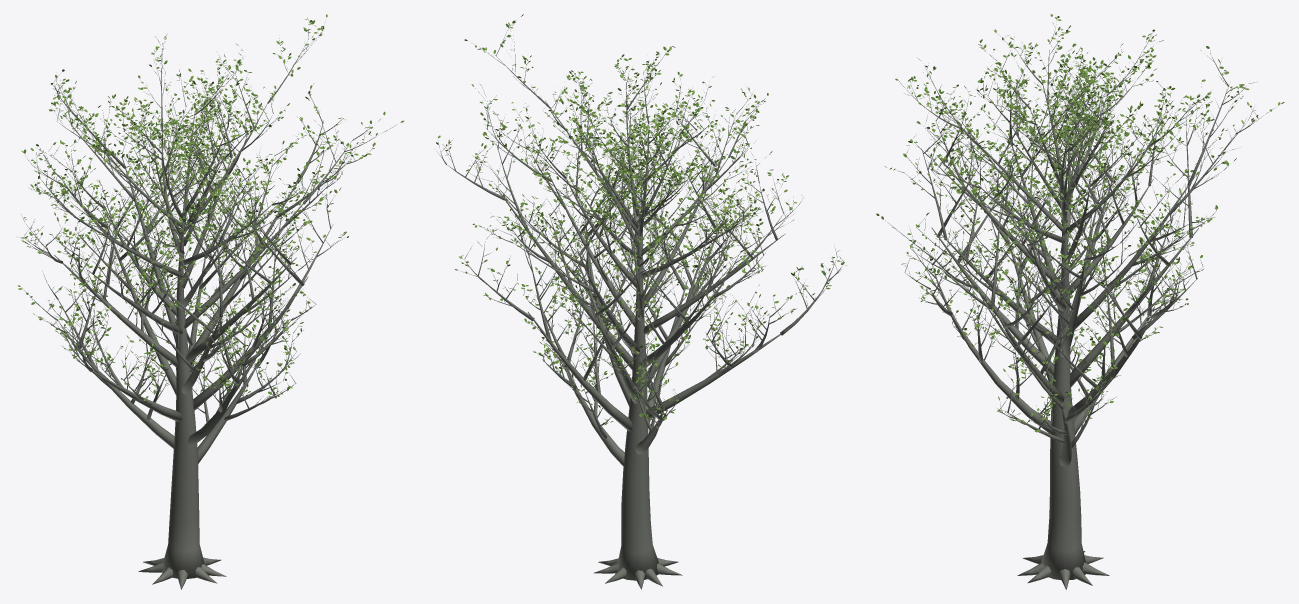
The model's file is Beech_Mature_01_Unpruned_LOD2.fbx.
3 views of the same model, side by side, from view 1: azimuth 30°, elevation 25°; view 2: azimuth 150°, elevation 25°; view 3: azimuth 270°, elevation 25° (orthographic). The views are drawn at different scales.
Parts seen in each view (by area): view 1: Beech_Mature_01_Unpruned_LOD2; view 2: Beech_Mature_01_Unpruned_LOD2; view 3: Beech_Mature_01_Unpruned_LOD2.
Boxes of the visible parts, x1=… form: Beech_Mature_01_Unpruned_LOD2: x1=16, y1=14, x2=403, y2=589; Beech_Mature_01_Unpruned_LOD2: x1=435, y1=14, x2=846, y2=589; Beech_Mature_01_Unpruned_LOD2: x1=876, y1=14, x2=1284, y2=589.
Size of the model in its own units: 1794 by 2506 by 1648.
5 materials, 1 textured.
